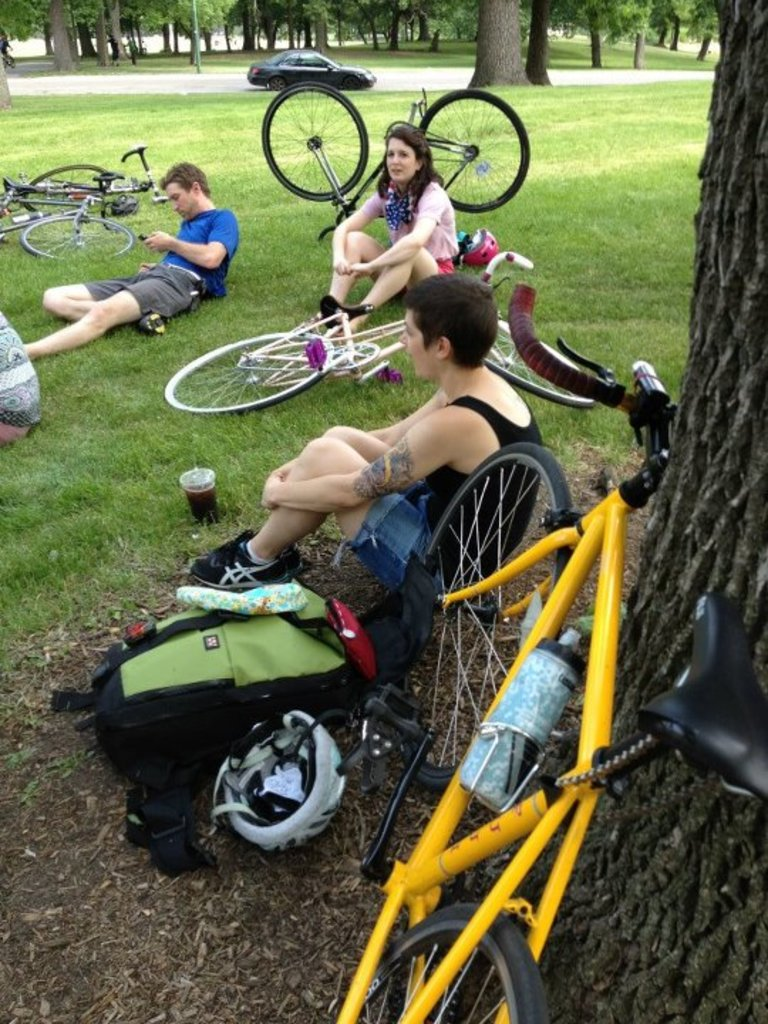Bike_away: (414, 322, 743, 1024)
